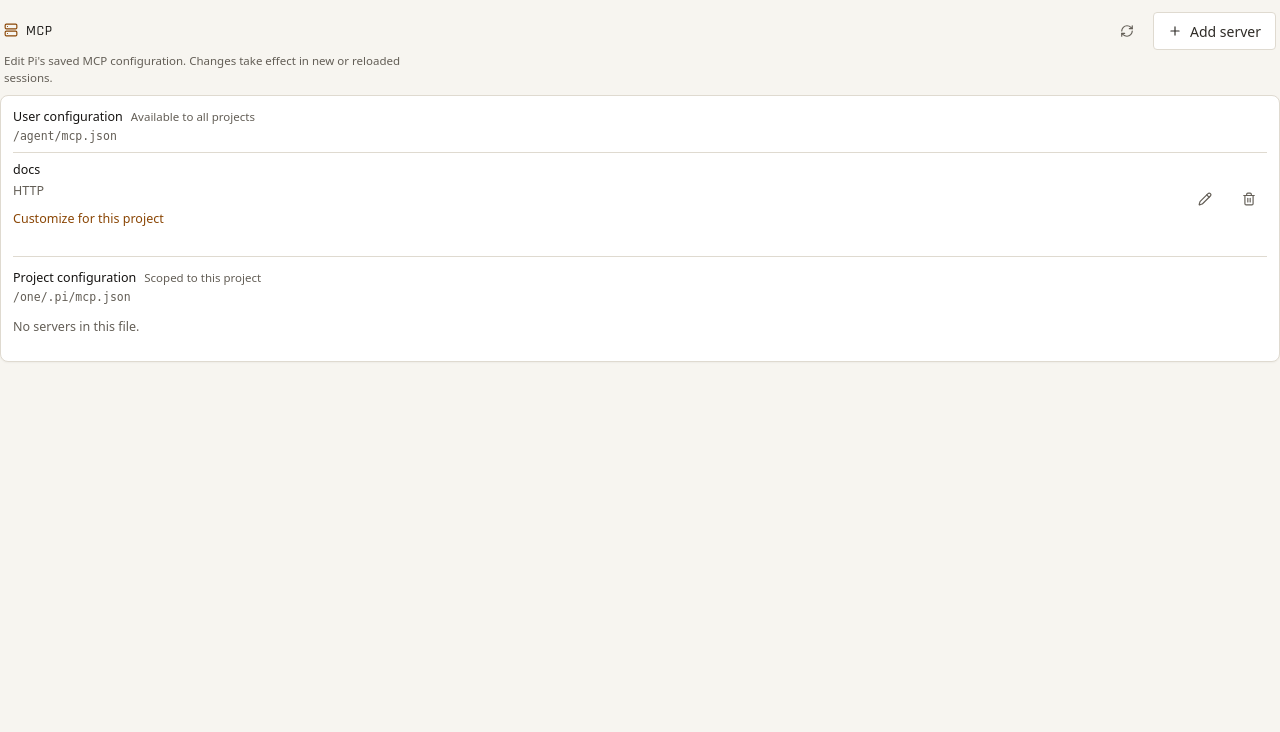
Scenario: reports reload rejection locally instead of claiming it was requested
Step 1. Click the button named "Edit user server docs" → (1205, 199), box [1187, 181, 1223, 217]
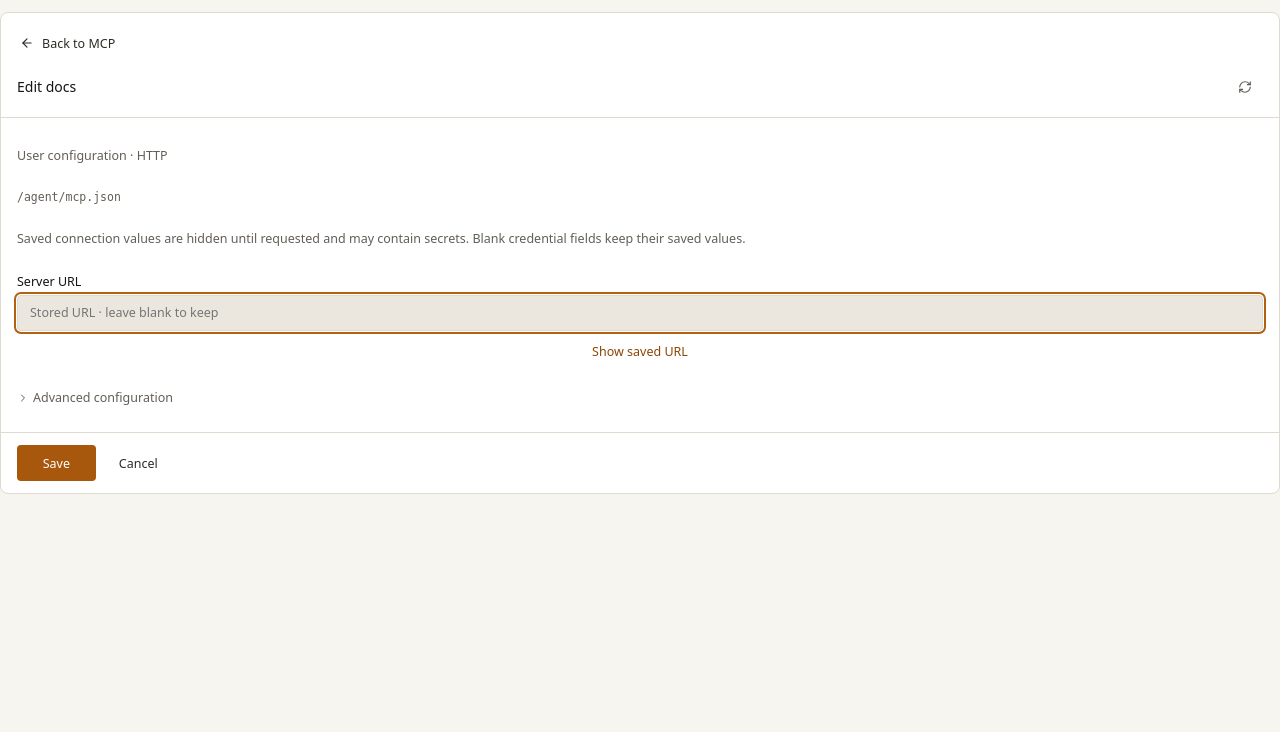
Step 2. Submit the form "Save", box [1, 118, 1279, 493]
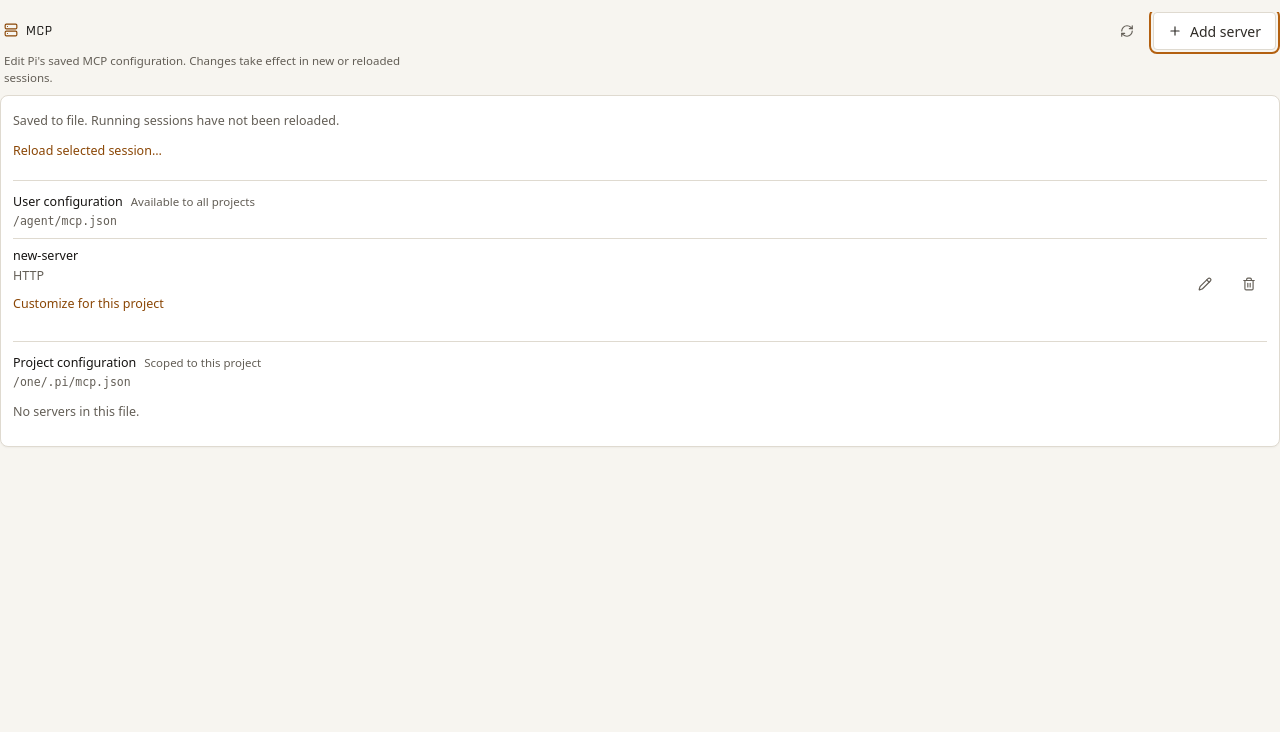
Check: the text "Saved to file. Running sessions have not been reloaded." is shown, box [13, 112, 339, 129]
Step 3. Click the button "Reload selected session…" → (87, 151), box [13, 134, 162, 168]
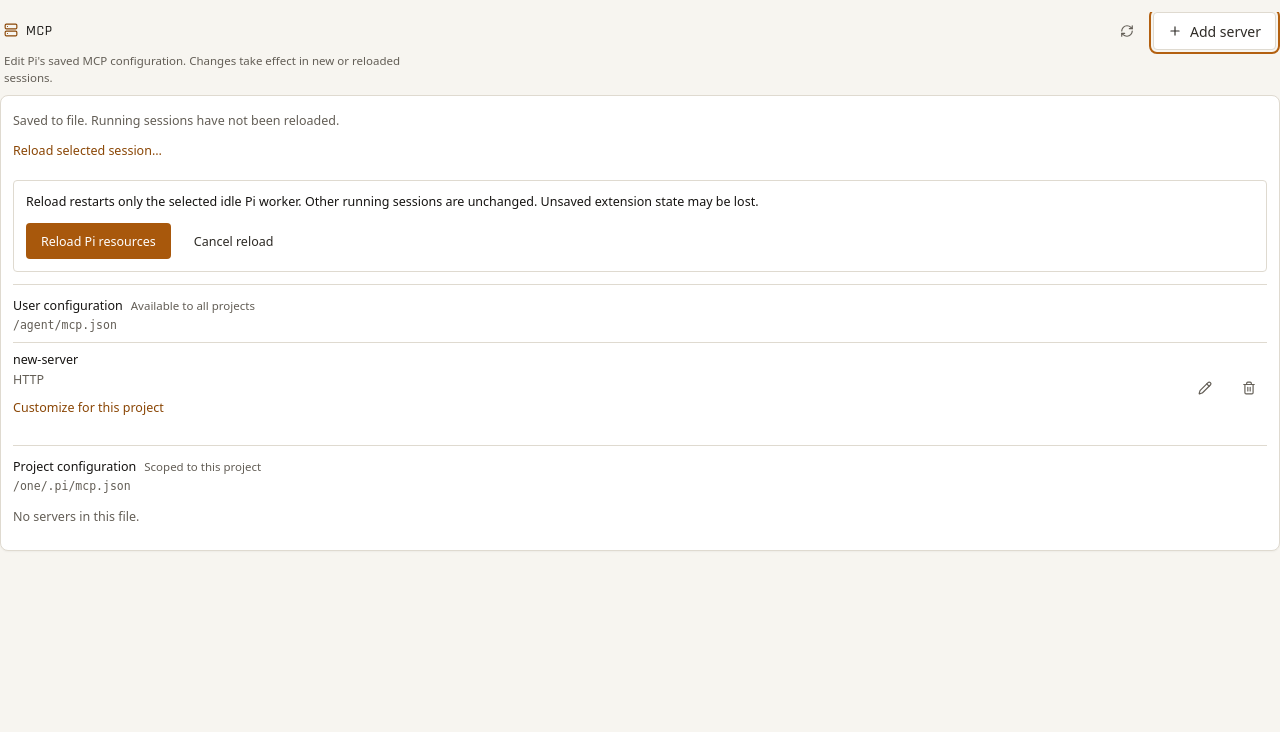
Step 4. Click the button "Reload Pi resources" → (98, 241), box [26, 223, 171, 259]
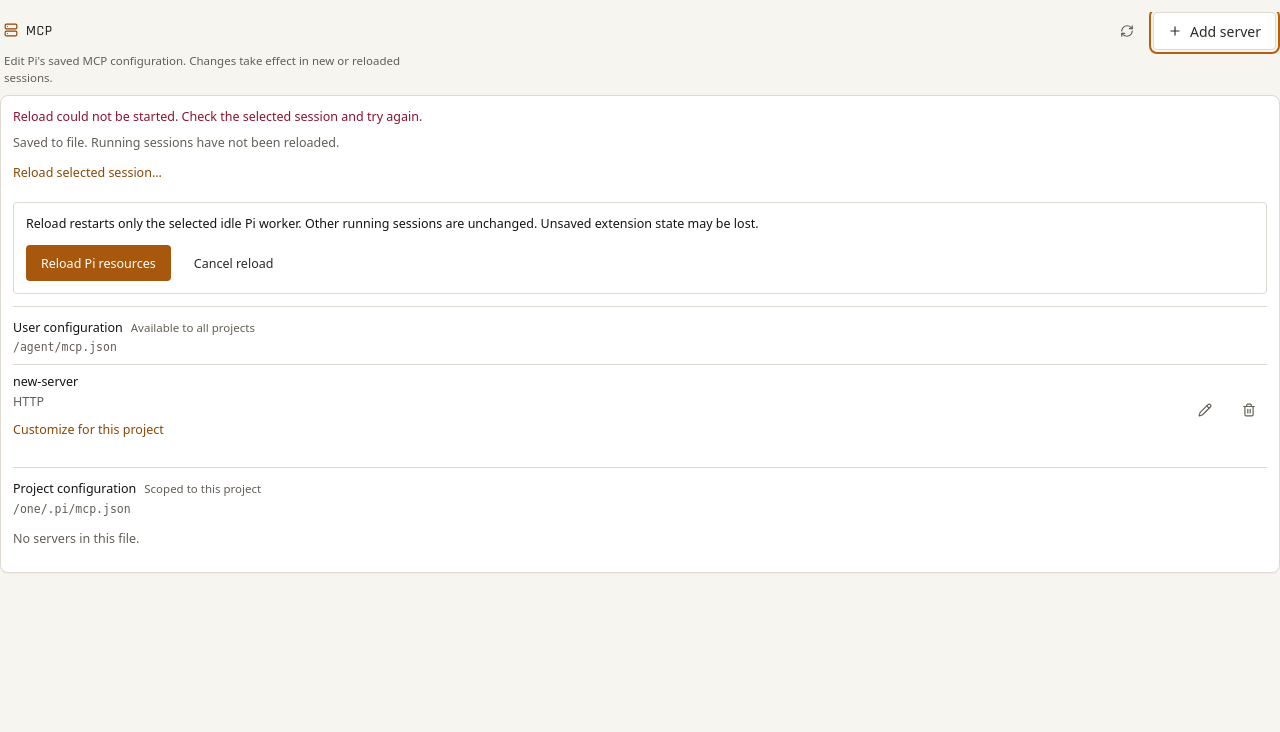
Check: the text "Reload requested" is not shown
Check: the message "Reload could not be started. Check the selected session and try again." is shown, box [13, 108, 422, 125]
Step 5. Click the button "Reload Pi resources" → (98, 263), box [26, 245, 171, 281]
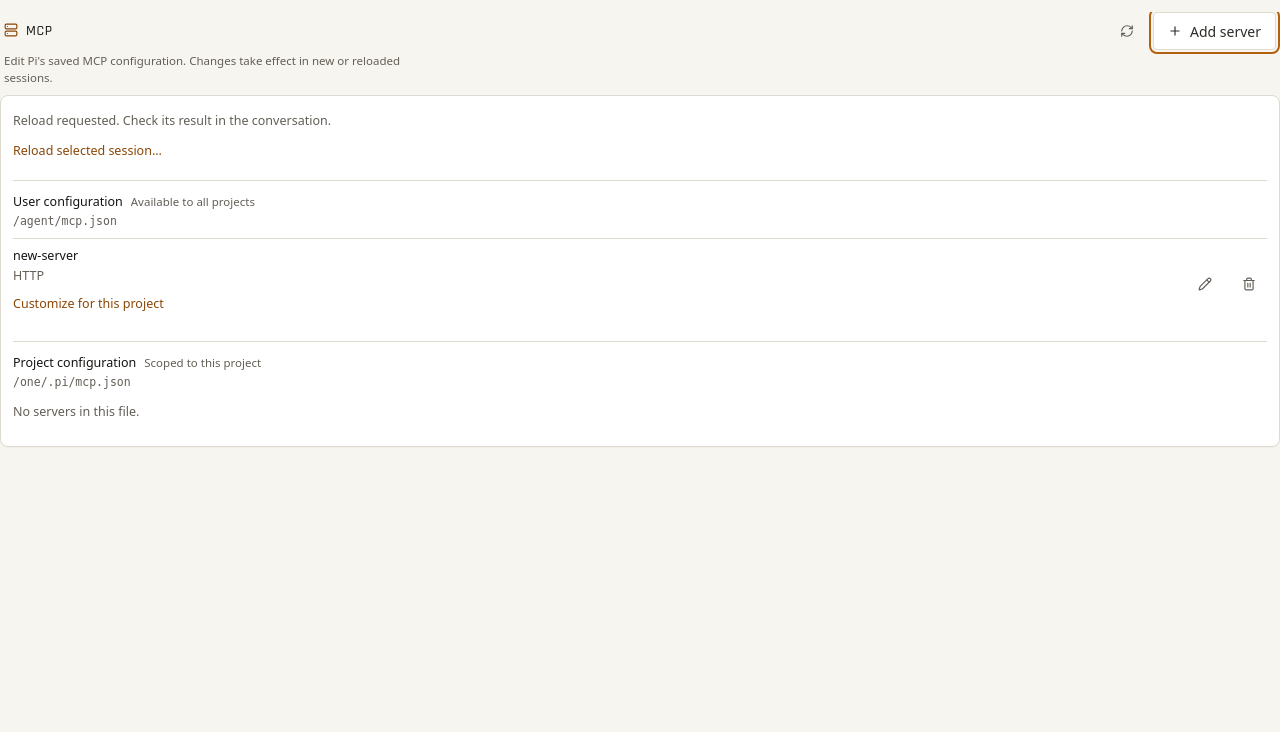
Check: the text "Reload requested. Check its result in the conversation." is shown, box [13, 112, 331, 129]
